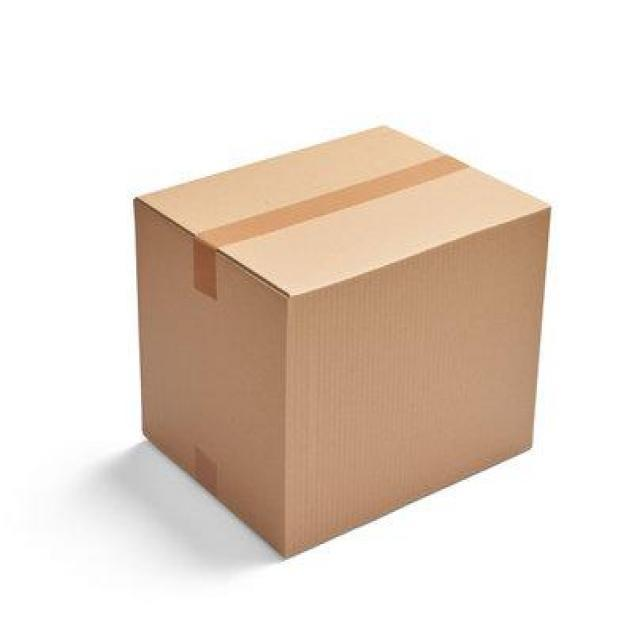box: (124, 112, 553, 566)
